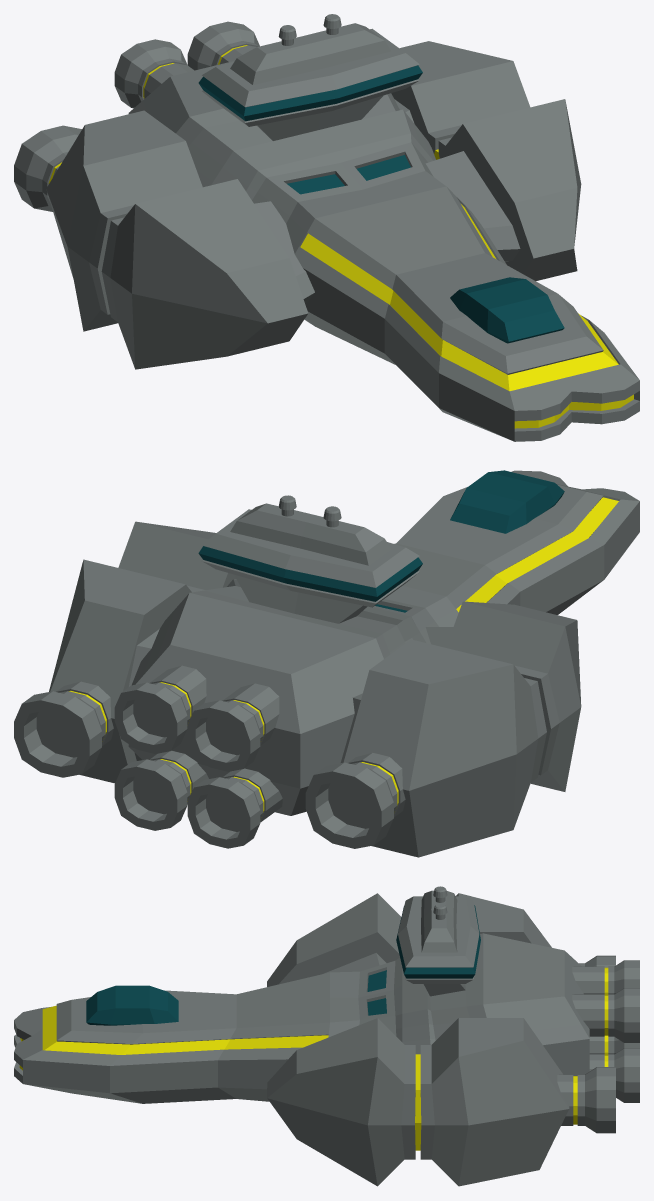
File: thermal-reactor-3d.fbx
The picture shows the model from 3 angles, top to bottom: view 1: azimuth 30°, elevation 25°; view 2: azimuth 150°, elevation 25°; view 3: azimuth 270°, elevation 25°; orthographic projection. The views are drawn at different scales.
Parts seen in each view (by area): view 1: spaceship.008; view 2: spaceship.008; view 3: spaceship.008.
Boxes of the visible parts, <box> form: spaceship.008: <box>14,14,639,441</box>; spaceship.008: <box>14,470,639,857</box>; spaceship.008: <box>14,886,639,1186</box>.
Size of the model in its own units: 2152 by 1215 by 3323.
